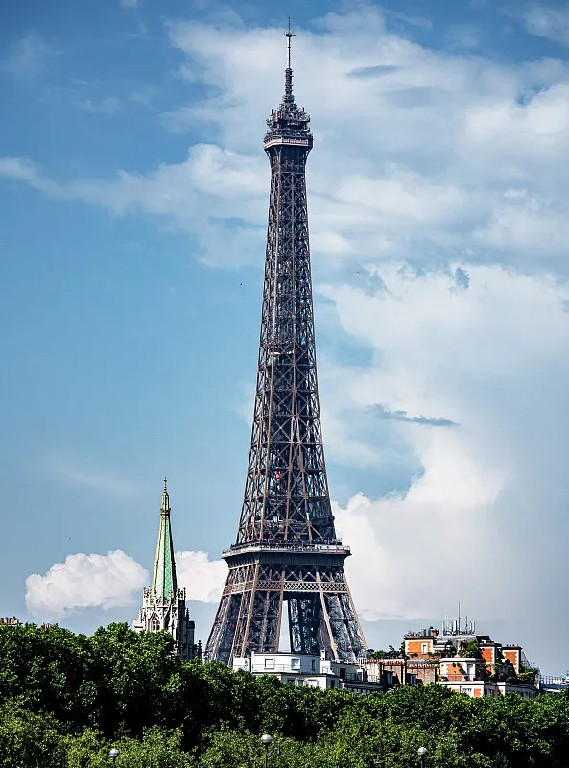Eiffel: (202, 15, 372, 666)
